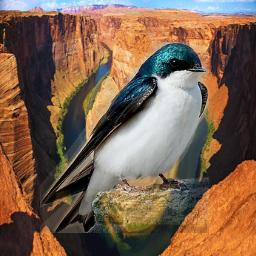Swallow: (40, 42, 209, 233)
